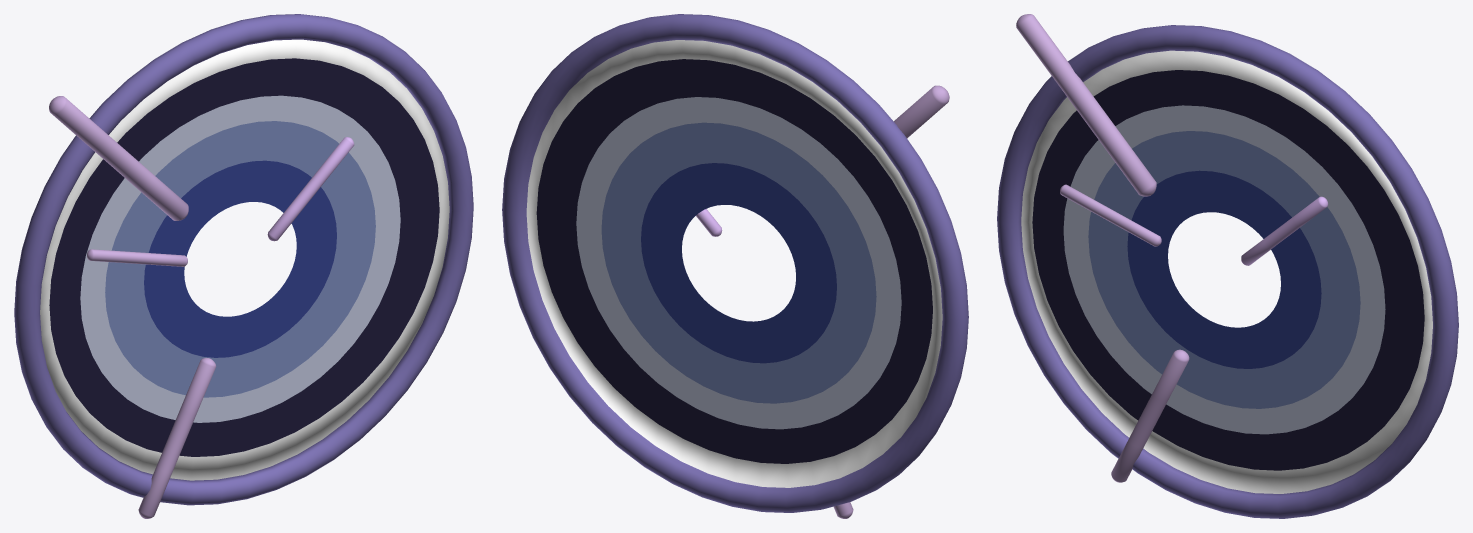
Rendered from BlackHole(1).fbx.
3 views of the same model, side by side, from view 1: azimuth 30°, elevation 25°; view 2: azimuth 150°, elevation 25°; view 3: azimuth 330°, elevation 25° (orthographic).
Parts seen in each view (by area): view 1: Torus.006, Cylinder.004, Cylinder.006, Cylinder.007, Cylinder.005; view 2: Torus.006, Cylinder.004; view 3: Torus.006, Cylinder.004, Cylinder.006, Cylinder.005, Cylinder.007.
Boxes of the visible parts, <box> form: Torus.006: <box>14,14,473,505</box>; Cylinder.004: <box>49,96,188,220</box>; Cylinder.006: <box>138,358,216,518</box>; Cylinder.007: <box>267,137,354,241</box>; Cylinder.005: <box>87,249,187,266</box>; Torus.006: <box>502,14,968,512</box>; Cylinder.004: <box>894,85,949,138</box>; Torus.006: <box>997,25,1458,518</box>; Cylinder.004: <box>1016,14,1156,196</box>; Cylinder.006: <box>1111,349,1189,482</box>; Cylinder.005: <box>1060,184,1161,246</box>; Cylinder.007: <box>1241,196,1328,265</box>.
Bounding box in the file's own units: 980 × 980 × 73.23.
